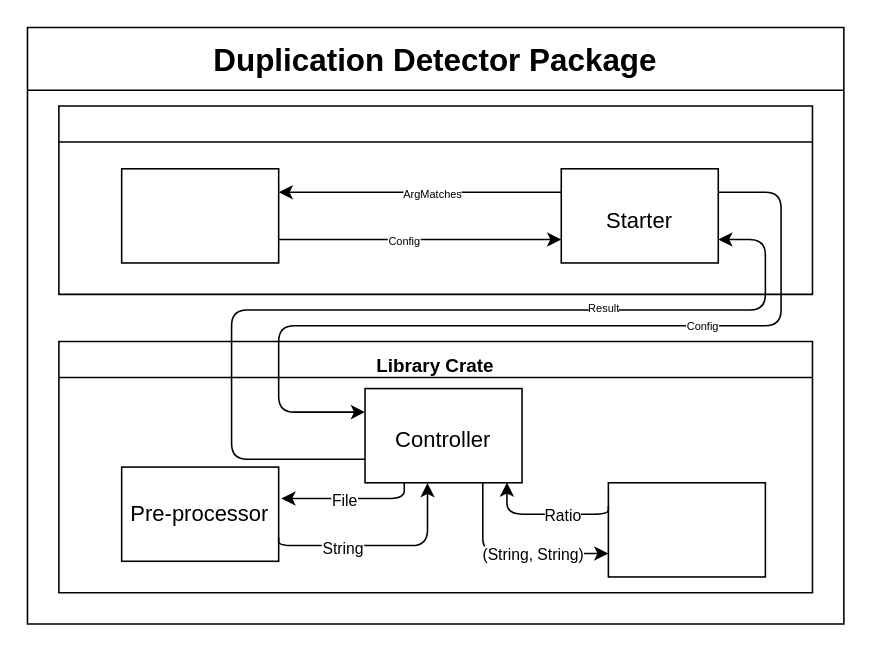
Some shapes in this 871 by 652 pixel diagram are drawn without their labels. The box of each missing label's shape, as (x1, y1, x2, y2) in pixels:
Binary Crate: (57, 104, 812, 294)
CLI-parser: (120, 167, 279, 263)
Processor: (607, 481, 765, 577)
